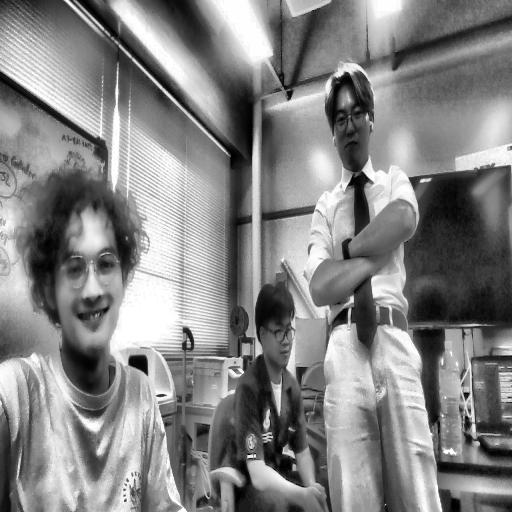Daifuku: (22, 162, 144, 358)
Not Daifuku: (322, 63, 380, 167), (255, 275, 298, 372)
